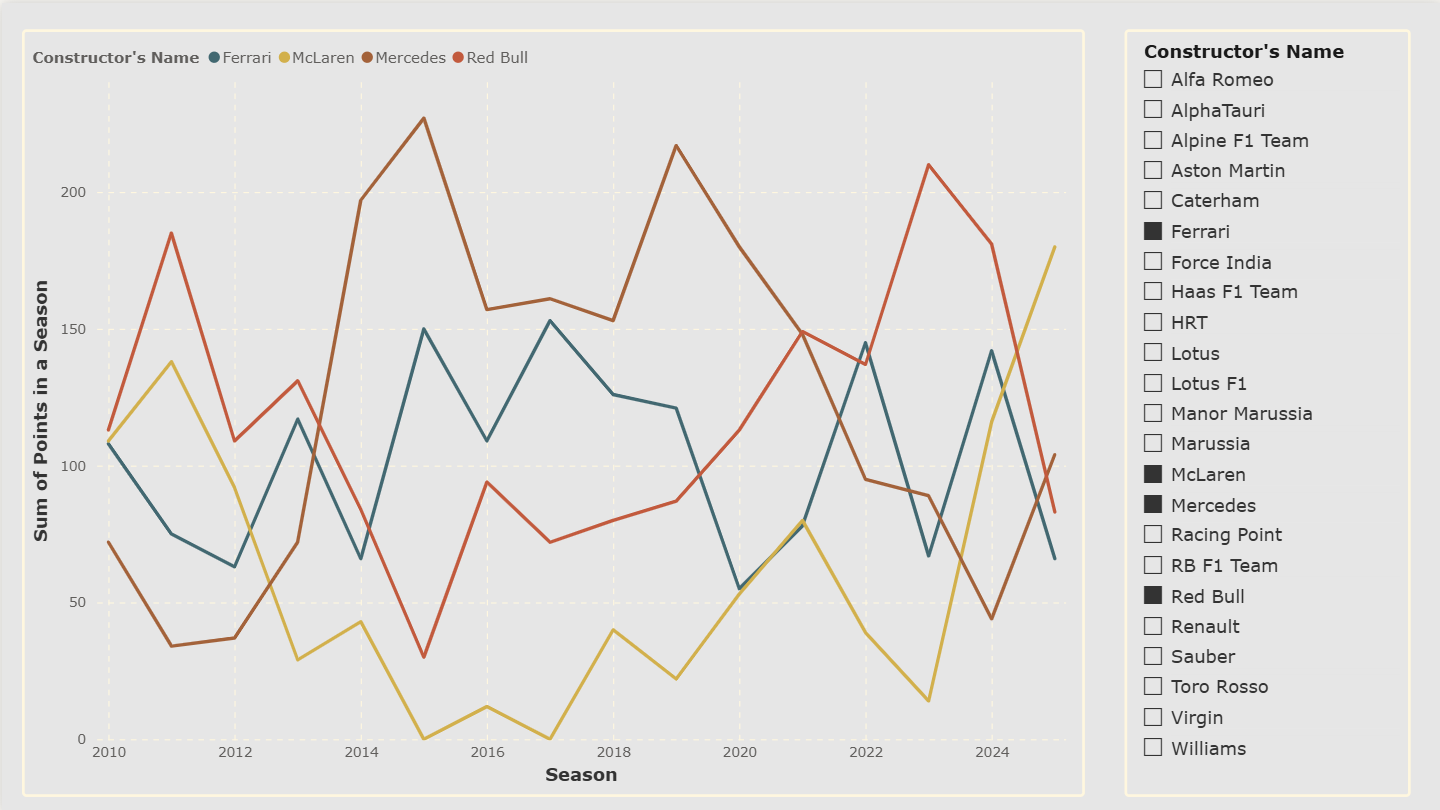

This screenshot's page, from the dashboard's own definition file:
{"tool":"powerbi","page":{"name":"Team Comparison","canvas":[1280,720],"ordinal":1},"visuals":[{"type":"lineChart","fields":{"Category":["model_results.date.Variation.Date Hierarchy.Year","model_results.date.Variation.Date Hierarchy.Quarter","model_results.date.Variation.Date Hierarchy.Month","model_results.date.Variation.Date Hierarchy.Day"],"Y":["Sum(model_results.points)"],"Series":["model_results.constructor_name"]},"box":[6,3,718,427],"z":0},{"type":"slicer","fields":{"Values":["model_results.constructor_name"]},"box":[724,3,280,427],"z":1000}]}

Visuals, with their boxes in screenshot pixels (x1, y1, x2, y2), scaled from the page's 1280x720 canvas onto the 1440x810 screenshot:
lineChart - model_results.date.Variation.Date Hierarchy.Year x model_results.date.Variation.Date Hierarchy.Quarter: (7,3,814,484)
slicer - model_results.constructor_name: (814,3,1130,484)
